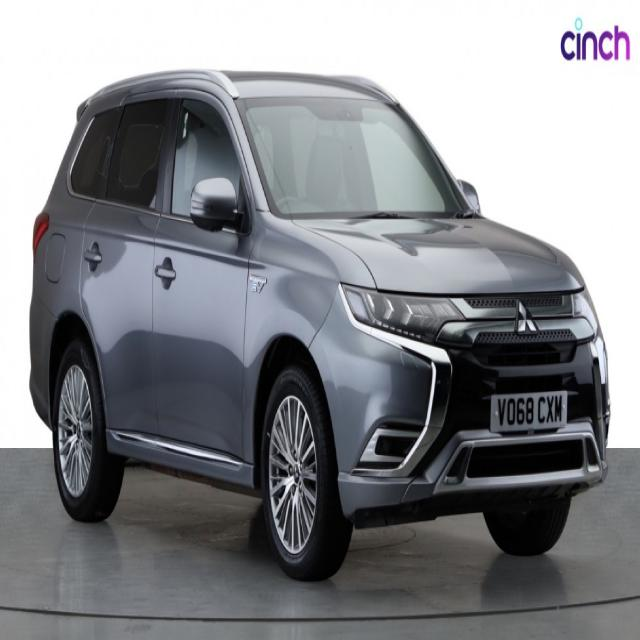light_vehicle: (28, 71, 610, 582)
